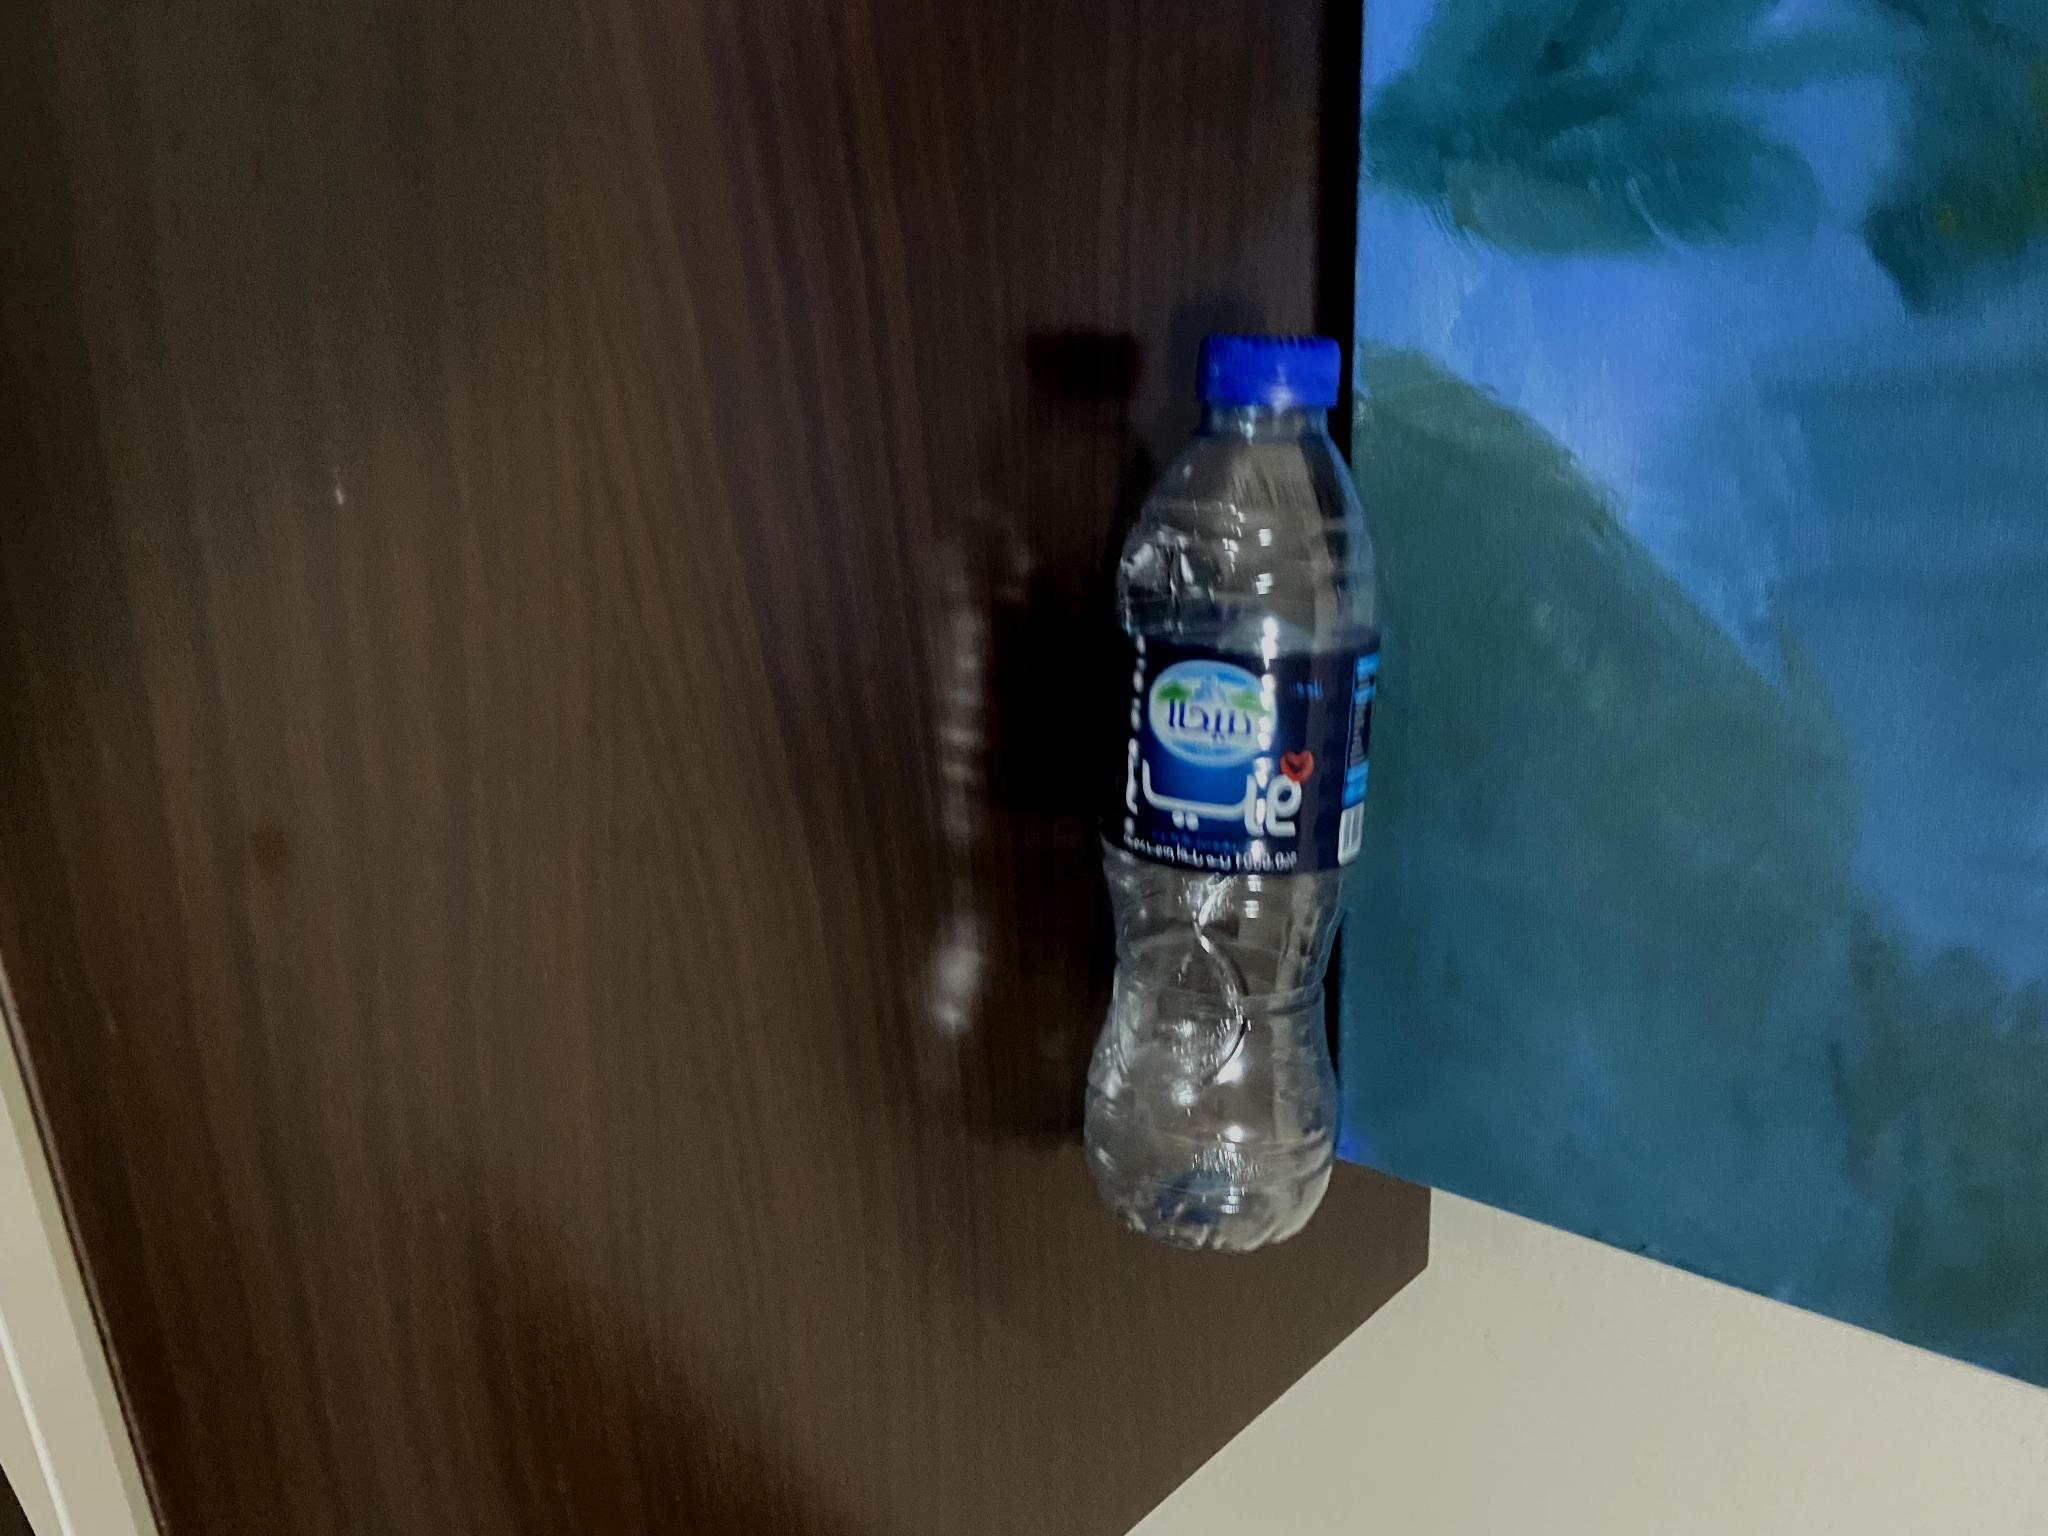bottle: (1056, 326, 1405, 1265)
